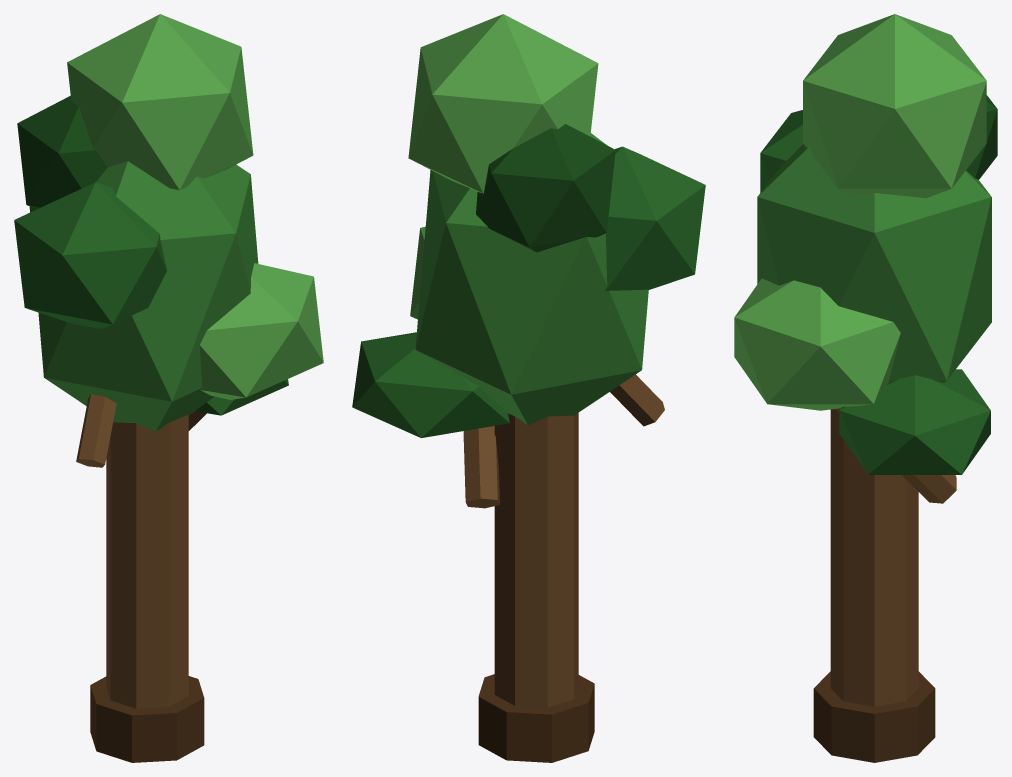
The model's file is tree_tall.glb.
3 views of the same model, side by side, from view 1: azimuth 30°, elevation 25°; view 2: azimuth 150°, elevation 25°; view 3: azimuth 270°, elevation 25° (orthographic). The views are drawn at different scales.
Parts seen in each view (by area): view 1: LeafMain.001, LeafTop.001, Trunk.001, LeafSide.001, LeafMid, TrunkFlare.001, LeafHigh, BranchB.001, LeafLow.001; view 2: LeafMain.001, Trunk.001, LeafTop.001, LeafHigh, LeafSide.001, LeafLow.001, TrunkFlare.001, BranchA.001, BranchB.001, LeafMid; view 3: LeafMain.001, LeafTop.001, Trunk.001, LeafMid, LeafLow.001, TrunkFlare.001, LeafSide.001, LeafHigh, BranchA.001.
Part boxes in pixels (bbox=[...]): LeafMain.001: bbox=[29, 161, 258, 431]; LeafTop.001: bbox=[67, 14, 253, 190]; Trunk.001: bbox=[106, 414, 188, 708]; LeafSide.001: bbox=[14, 182, 166, 329]; LeafMid: bbox=[199, 263, 323, 399]; TrunkFlare.001: bbox=[90, 676, 204, 762]; LeafHigh: bbox=[17, 96, 107, 208]; BranchB.001: bbox=[76, 394, 116, 467]; LeafLow.001: bbox=[195, 379, 288, 415]; LeafMain.001: bbox=[415, 133, 648, 425]; Trunk.001: bbox=[494, 413, 578, 707]; LeafTop.001: bbox=[408, 14, 598, 193]; LeafHigh: bbox=[476, 124, 615, 252]; LeafSide.001: bbox=[605, 146, 705, 291]; LeafLow.001: bbox=[352, 332, 509, 437]; TrunkFlare.001: bbox=[478, 674, 594, 762]; BranchA.001: bbox=[463, 426, 499, 508]; BranchB.001: bbox=[610, 374, 664, 426]; LeafMid: bbox=[410, 226, 425, 319]; LeafMain.001: bbox=[757, 144, 991, 382]; LeafTop.001: bbox=[803, 14, 986, 198]; Trunk.001: bbox=[830, 409, 918, 706]; LeafMid: bbox=[734, 278, 900, 410]; LeafLow.001: bbox=[839, 369, 990, 474]; TrunkFlare.001: bbox=[813, 671, 935, 762]; LeafSide.001: bbox=[760, 110, 803, 192]; LeafHigh: bbox=[966, 95, 997, 179]; BranchA.001: bbox=[835, 408, 956, 503].
Size of the model in its own units: 0.514 by 1.2 by 0.3897.
